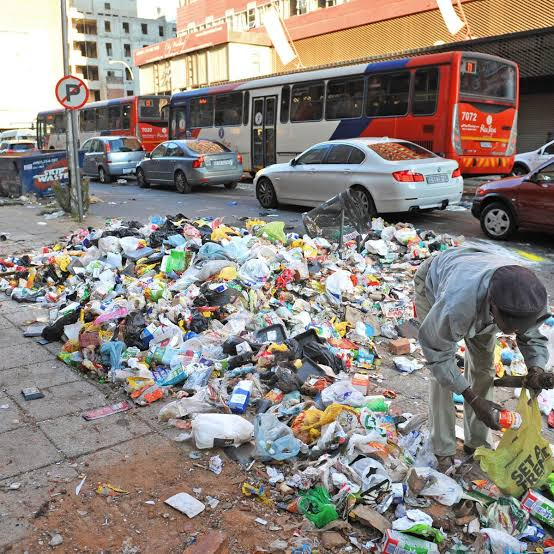garbage: (25, 224, 410, 383), (142, 327, 414, 518), (304, 462, 552, 554)
